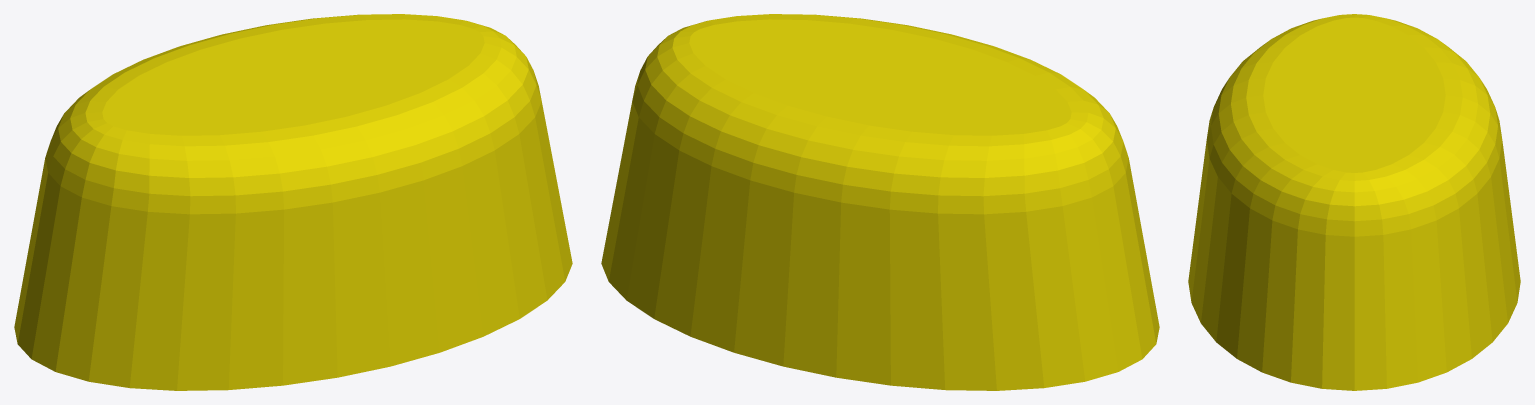
Rendered from yellowGem.fbx.
The picture shows the model from 3 angles, left to right: view 1: azimuth 30°, elevation 25°; view 2: azimuth 150°, elevation 25°; view 3: azimuth 270°, elevation 25°; orthographic projection. The views are drawn at different scales.
Parts seen in each view (by area): view 1: Cylinder.001; view 2: Cylinder.001; view 3: Cylinder.001.
Boxes of the visible parts, <box> form: Cylinder.001: <box>14,14,572,390</box>; Cylinder.001: <box>601,14,1159,390</box>; Cylinder.001: <box>1188,14,1520,390</box>.
Bounding box in the file's own units: 357 × 142 × 229.
